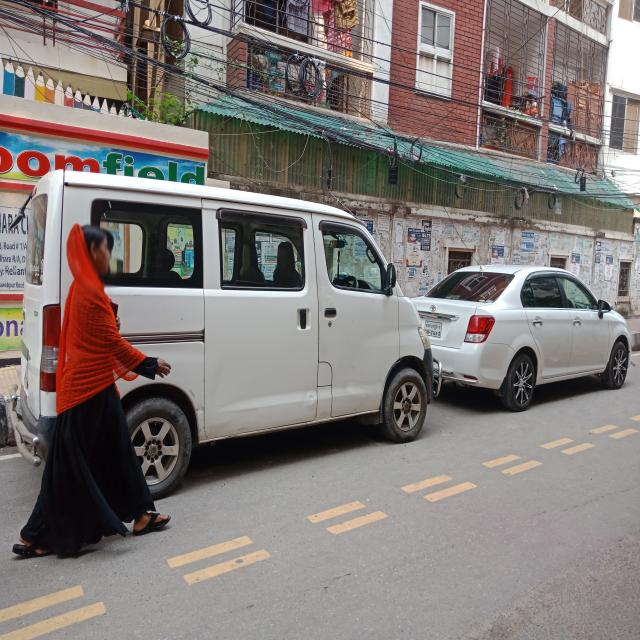car: (421, 244, 638, 414)
microbus: (15, 153, 436, 484)
